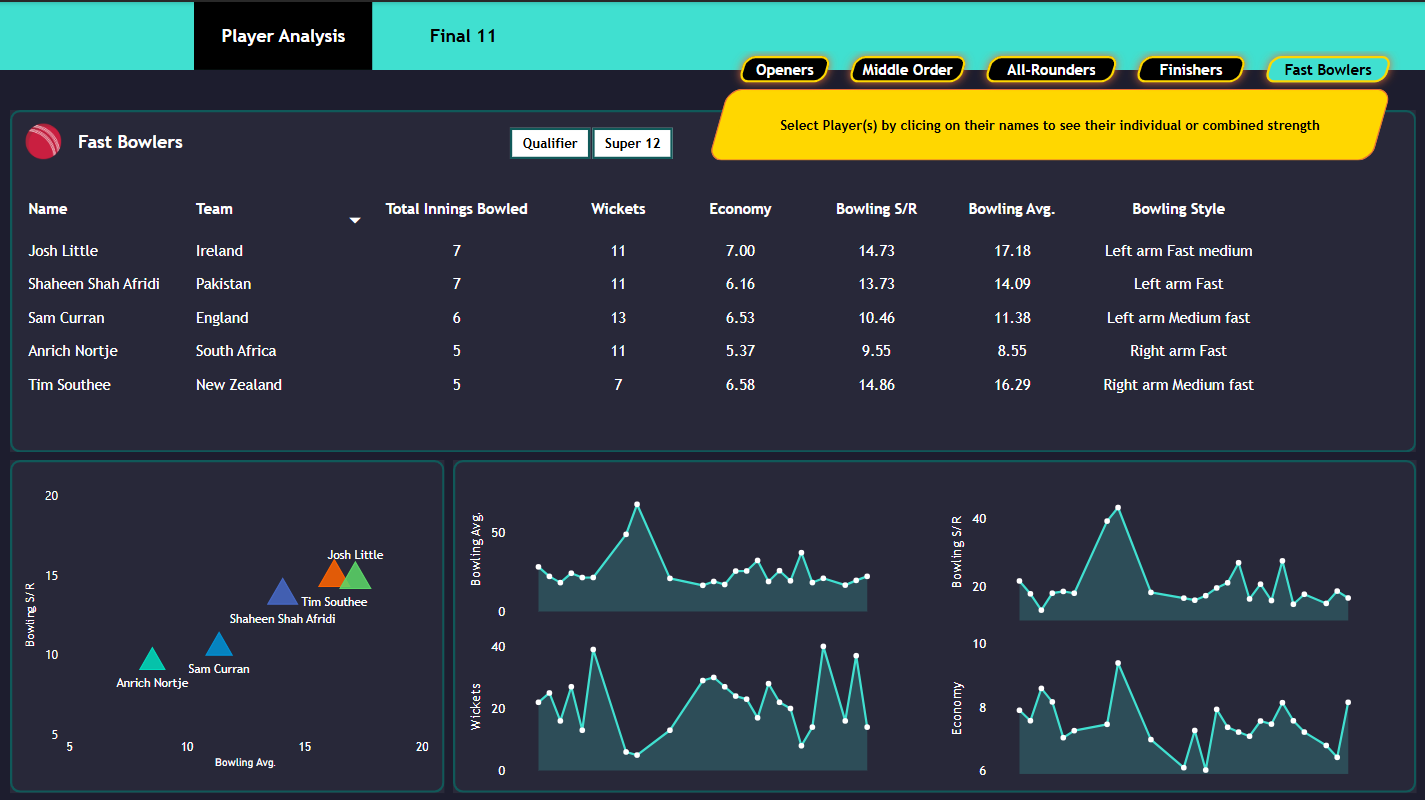

Layout of this report page (visuals, bound fields, positions):
{"tool":"powerbi","page":{"name":"Specialist Fast Bowlers","canvas":[1280,720],"ordinal":4},"visuals":[{"type":"shape","box":[0,61.3,1280,658.5],"z":0},{"type":"shape","box":[8.8,97.3,1262.5,307.4],"z":1000},{"type":"shape","box":[8.8,411.4,390,298.6],"z":2000},{"type":"shape","box":[635.4,78.3,613.7,64.2],"z":3000},{"type":"tableEx","fields":{"Values":["Players Data.name","Players Data.team","Key_Measures.Total Innings Bowled","Key_Measures.wickets","Key_Measures.Economy","Key_Measures.Bowling Strike Rate","Key_Measures.Bowling Average","Players Data.bowlingStyle"]},"box":[15.6,166.3,1248.9,234.4],"z":4000},{"type":"scatterChart","title":"Players by Bowling Avg & Strike rate","fields":{"Category":["Players Data.name"],"X":["Key_Measures.Bowling Average"],"Y":["Key_Measures.Bowling Strike Rate"],"Size":["Key_Measures.Bowling Strike Rate"]},"box":[17.5,428.9,371.6,263.6],"z":5000},{"type":"slicer","fields":{"Values":["Match Data.stage"]},"box":[431.9,106,196.5,37],"z":6000},{"type":"shape","box":[70,104.1,176,42.8],"z":7000},{"type":"card","fields":{"Values":["Key_Measures.Bowling Average"]},"box":[820.9,78.8,96.3,64.2],"z":8000},{"type":"card","fields":{"Values":["Key_Measures.Bowling Strike Rate"]},"box":[917.2,78.8,112.8,64.2],"z":9000},{"type":"card","fields":{"Values":["Key_Measures.wickets"]},"box":[1130.2,78.8,93.4,64.2],"z":10000},{"type":"card","fields":{"Values":["Key_Measures.Economy"]},"box":[1030,78.8,100.2,64.2],"z":11000},{"type":"shape","box":[653.6,96.3,163.4,29.2],"z":12000},{"type":"shape","box":[406.6,411.4,864.7,298.6],"z":13000},{"type":"actionButton","box":[654.6,40.8,100.2,39.9],"z":14000},{"type":"actionButton","box":[753.3,40.8,123.5,39.9],"z":15000},{"type":"actionButton","box":[1011.1,40.8,116.7,39.9],"z":16000},{"type":"actionButton","box":[875.4,40.8,137.1,39.9],"z":17000},{"type":"actionButton","box":[1126.3,40.8,131.3,39.9],"z":18000},{"type":"areaChart","title":"Bowling Average","fields":{"Y":["Key_Measures.Bowling Average"],"Category":["Match Data.matchDate.Variation.Date Hierarchy.Day"]},"box":[416.3,419.2,416.3,141],"z":19000},{"type":"areaChart","title":"Bowling Strike Rate","fields":{"Y":["Key_Measures.Bowling Strike Rate"],"Category":["Match Data.matchDate.Variation.Date Hierarchy.Day"]},"box":[848.1,419.2,416.3,141],"z":20000},{"type":"areaChart","title":"Economy Rate","fields":{"Y":["Key_Measures.Economy"],"Category":["Match Data.matchDate.Variation.Date Hierarchy.Day"]},"box":[848.1,562.2,416.3,141],"z":21000},{"type":"areaChart","title":"Wickets Taken","fields":{"Y":["Key_Measures.wickets"],"Category":["Match Data.matchDate.Variation.Date Hierarchy.Day"]},"box":[416.3,562.2,416.3,141],"z":22000},{"type":"actionButton","box":[174.1,0,160.5,61.3],"z":23000},{"type":"actionButton","box":[335.6,0,160.5,61.3],"z":24000},{"type":"shape","box":[673.8,95.8,536.9,29.2],"z":25000},{"type":"image","box":[17.5,104.1,41.8,42.8],"z":26000}]}

Visuals, with their boxes in screenshot pixels (x1, y1, x2, y2), scaled from the page's 1280x720 canvas onto the 1425x800 screenshot:
shape: {"x1": 0, "y1": 68, "x2": 1424, "y2": 799}
shape: {"x1": 10, "y1": 108, "x2": 1415, "y2": 450}
shape: {"x1": 10, "y1": 457, "x2": 444, "y2": 789}
shape: {"x1": 707, "y1": 87, "x2": 1391, "y2": 158}
tableEx - Players Data.name x Players Data.team: {"x1": 17, "y1": 185, "x2": 1408, "y2": 445}
"Players by Bowling Avg & Strike rate" scatterChart: {"x1": 19, "y1": 477, "x2": 433, "y2": 769}
slicer - Match Data.stage: {"x1": 481, "y1": 118, "x2": 700, "y2": 159}
shape: {"x1": 78, "y1": 116, "x2": 274, "y2": 163}
card - Key_Measures.Bowling Average: {"x1": 914, "y1": 88, "x2": 1021, "y2": 159}
card - Key_Measures.Bowling Strike Rate: {"x1": 1021, "y1": 88, "x2": 1147, "y2": 159}
card - Key_Measures.wickets: {"x1": 1258, "y1": 88, "x2": 1362, "y2": 159}
card - Key_Measures.Economy: {"x1": 1147, "y1": 88, "x2": 1258, "y2": 159}
shape: {"x1": 728, "y1": 107, "x2": 910, "y2": 139}
shape: {"x1": 453, "y1": 457, "x2": 1415, "y2": 789}
actionButton: {"x1": 729, "y1": 45, "x2": 840, "y2": 90}
actionButton: {"x1": 839, "y1": 45, "x2": 976, "y2": 90}
actionButton: {"x1": 1126, "y1": 45, "x2": 1256, "y2": 90}
actionButton: {"x1": 975, "y1": 45, "x2": 1127, "y2": 90}
actionButton: {"x1": 1254, "y1": 45, "x2": 1400, "y2": 90}
"Bowling Average" areaChart: {"x1": 463, "y1": 466, "x2": 927, "y2": 622}
"Bowling Strike Rate" areaChart: {"x1": 944, "y1": 466, "x2": 1408, "y2": 622}
"Economy Rate" areaChart: {"x1": 944, "y1": 625, "x2": 1408, "y2": 781}
"Wickets Taken" areaChart: {"x1": 463, "y1": 625, "x2": 927, "y2": 781}
actionButton: {"x1": 194, "y1": 0, "x2": 373, "y2": 68}
actionButton: {"x1": 374, "y1": 0, "x2": 552, "y2": 68}
shape: {"x1": 750, "y1": 106, "x2": 1348, "y2": 139}
image: {"x1": 19, "y1": 116, "x2": 66, "y2": 163}
